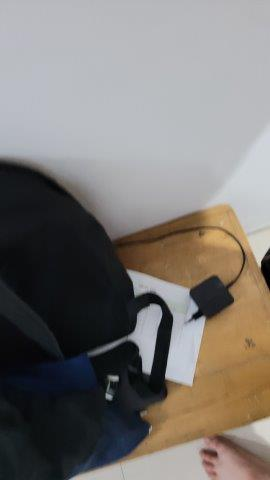kertas: (124, 269, 204, 386)
